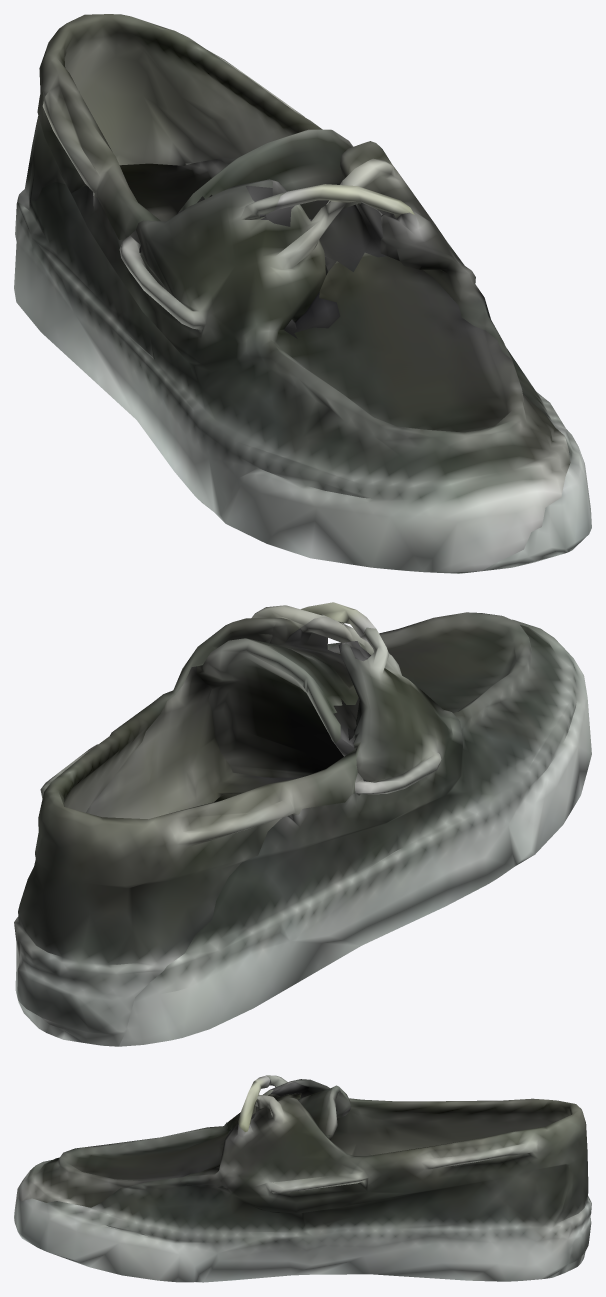
File: Womens_Canvas_Bahama_in_Black_vnJULsDVyq5-medium.glb
3 views of the same model, one above another, from view 1: azimuth 30°, elevation 25°; view 2: azimuth 150°, elevation 25°; view 3: azimuth 270°, elevation 25° (orthographic). The views are drawn at different scales.
Visible parts, largest first — view 1: Womens_Canvas_Bahama_in_Black_vnJULsDVyq5; view 2: Womens_Canvas_Bahama_in_Black_vnJULsDVyq5; view 3: Womens_Canvas_Bahama_in_Black_vnJULsDVyq5.
Part boxes in pixels (x1,y1,x2,y2): Womens_Canvas_Bahama_in_Black_vnJULsDVyq5: (14, 14, 591, 573); Womens_Canvas_Bahama_in_Black_vnJULsDVyq5: (14, 602, 591, 1046); Womens_Canvas_Bahama_in_Black_vnJULsDVyq5: (14, 1075, 591, 1282).
Size of the model in its own units: 0.0859 by 0.0776 by 0.2436.
1 material, 1 textured.
